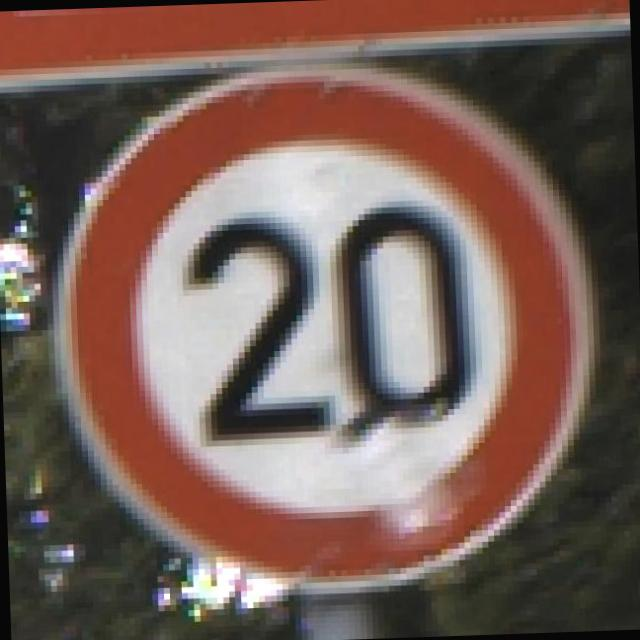Ograniczenie predkosci do 20: (48, 55, 606, 602)
